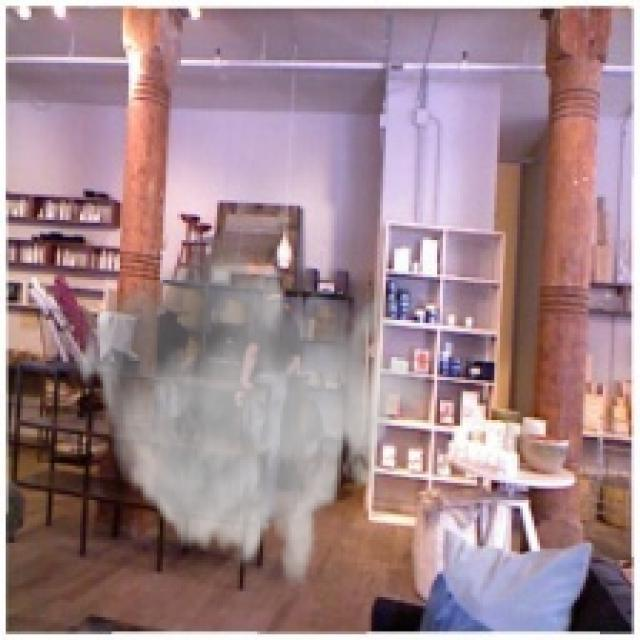Smoke: (71, 226, 432, 592)
